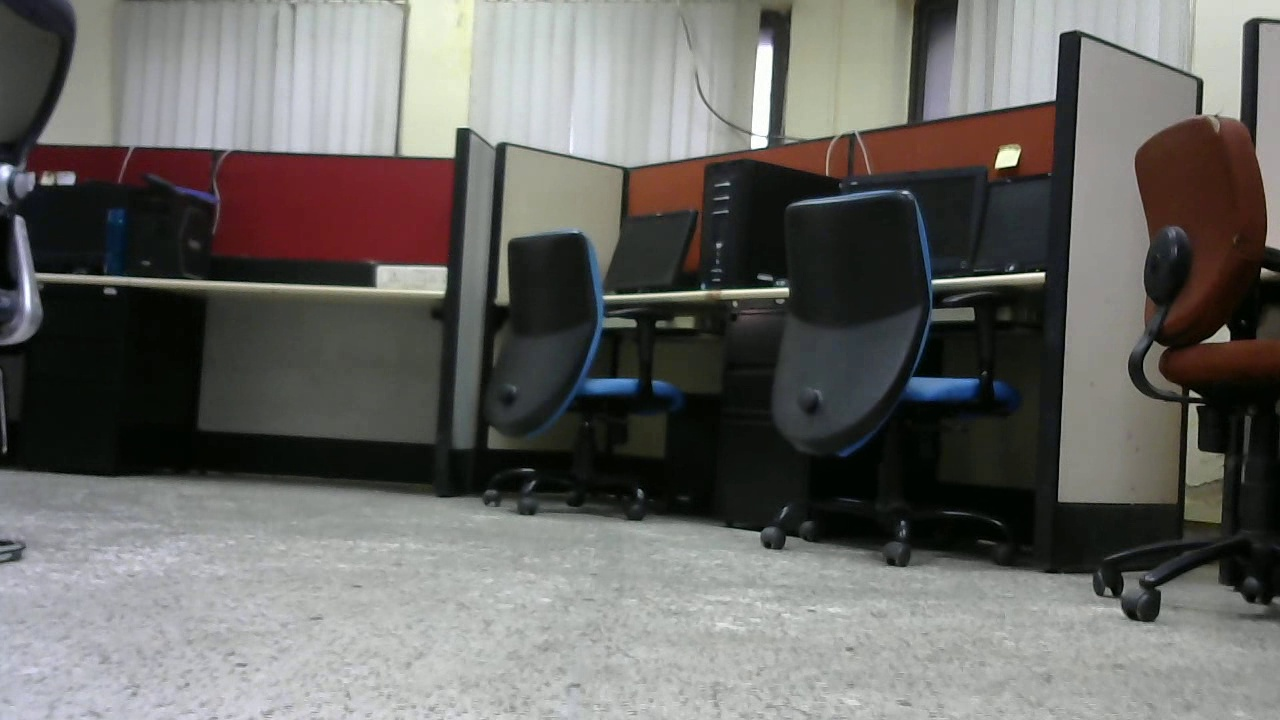chair: (759, 188, 1019, 576), (1106, 116, 1280, 625), (470, 233, 686, 519)
